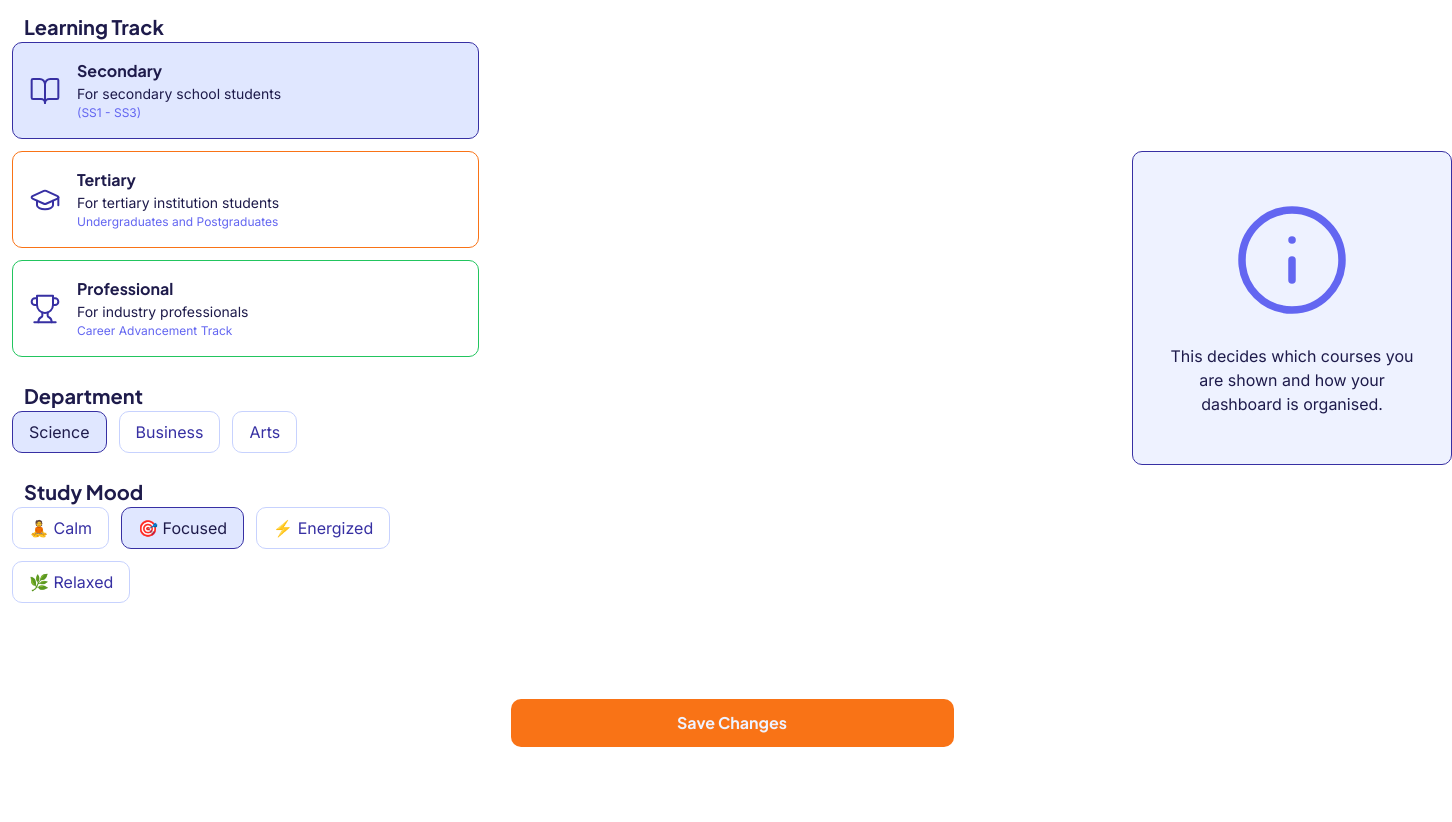
Test case: LearningPreferencesForm — switching track › clears the department, which only means something within its track
Click the button "Professional": (246, 308) [12, 260, 479, 357]
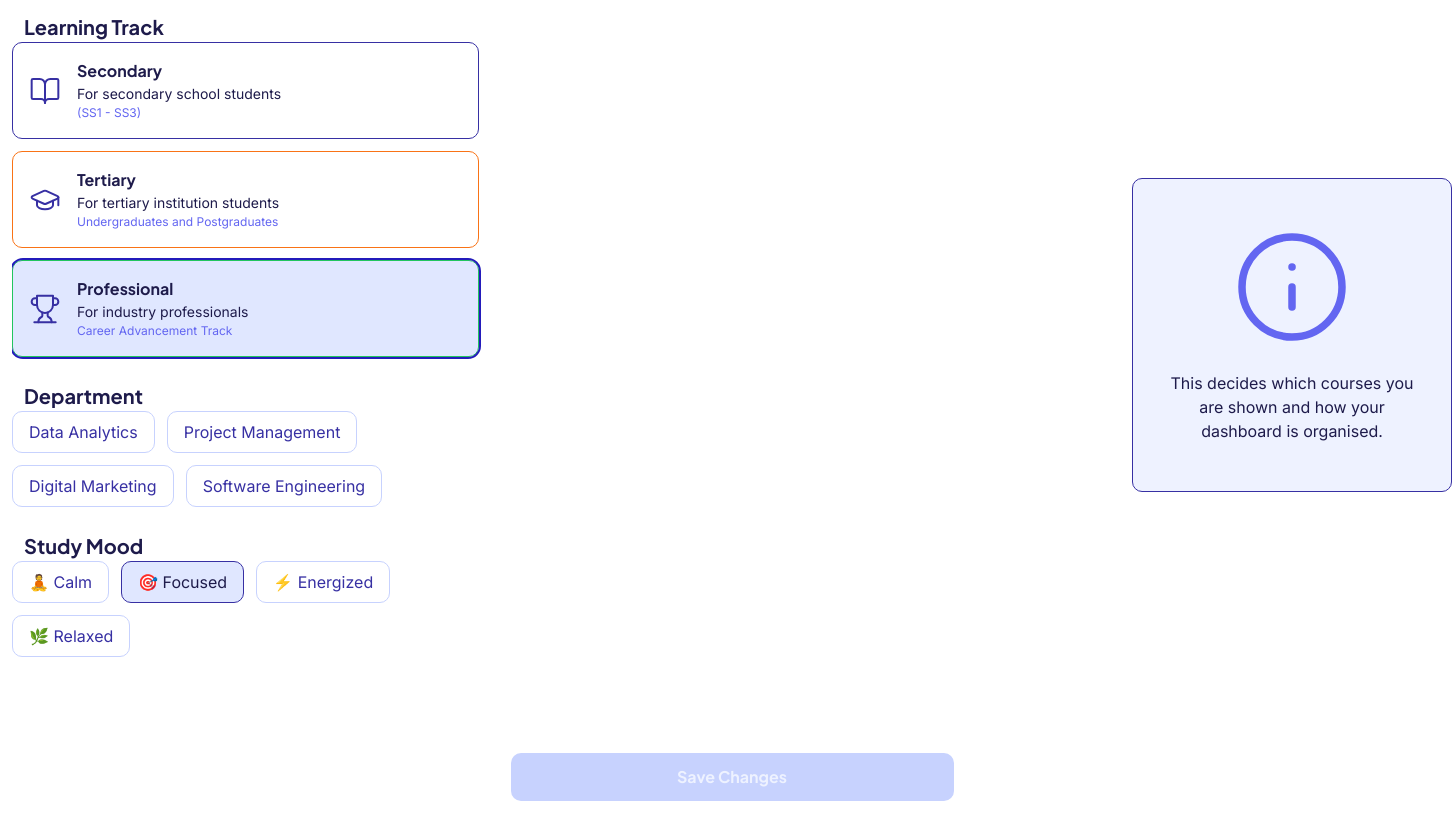
Expected: the button "Save Changes" is disabled, [510, 753, 954, 801]
